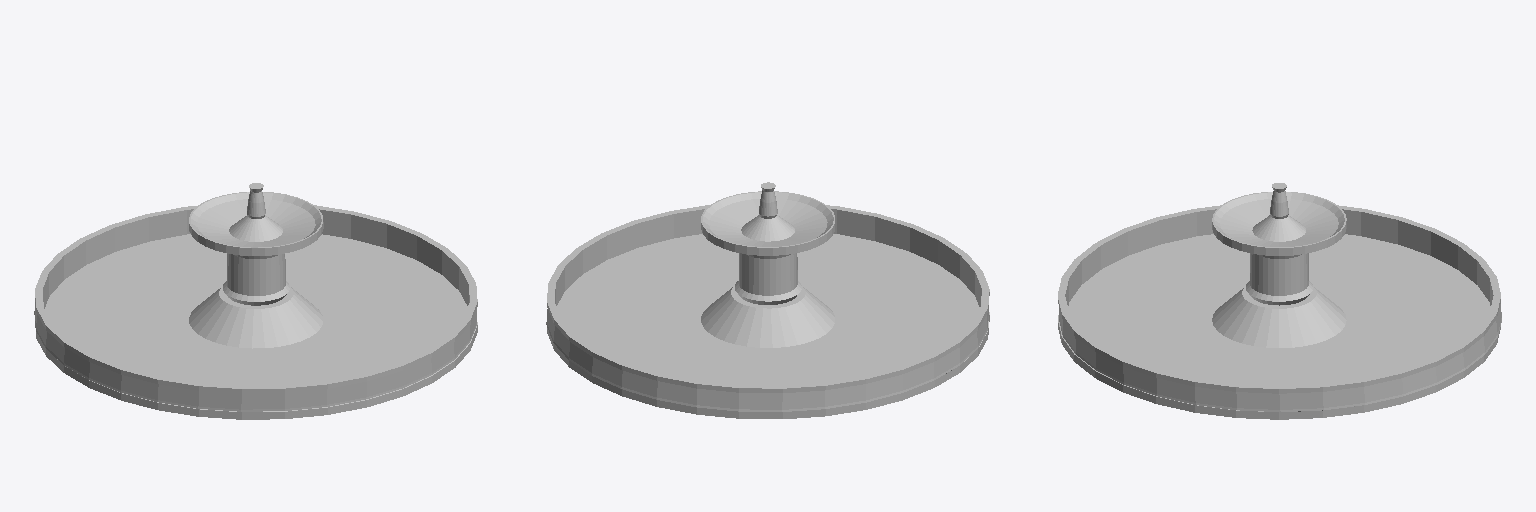
File: fountain.obj
The picture shows the model from 3 angles: view 1: azimuth 30°, elevation 25°; view 2: azimuth 150°, elevation 25°; view 3: azimuth 270°, elevation 25°; orthographic projection.
Parts seen in each view (by area): view 1: Cylinder; view 2: Cylinder; view 3: Cylinder.
Boxes of the visible parts, box(x1,y1,x2,y2) form: Cylinder: box(34, 183, 477, 419); Cylinder: box(546, 182, 989, 418); Cylinder: box(1058, 183, 1501, 419).
Bounding box in the file's own units: 2.4 × 0.8357 × 2.4.